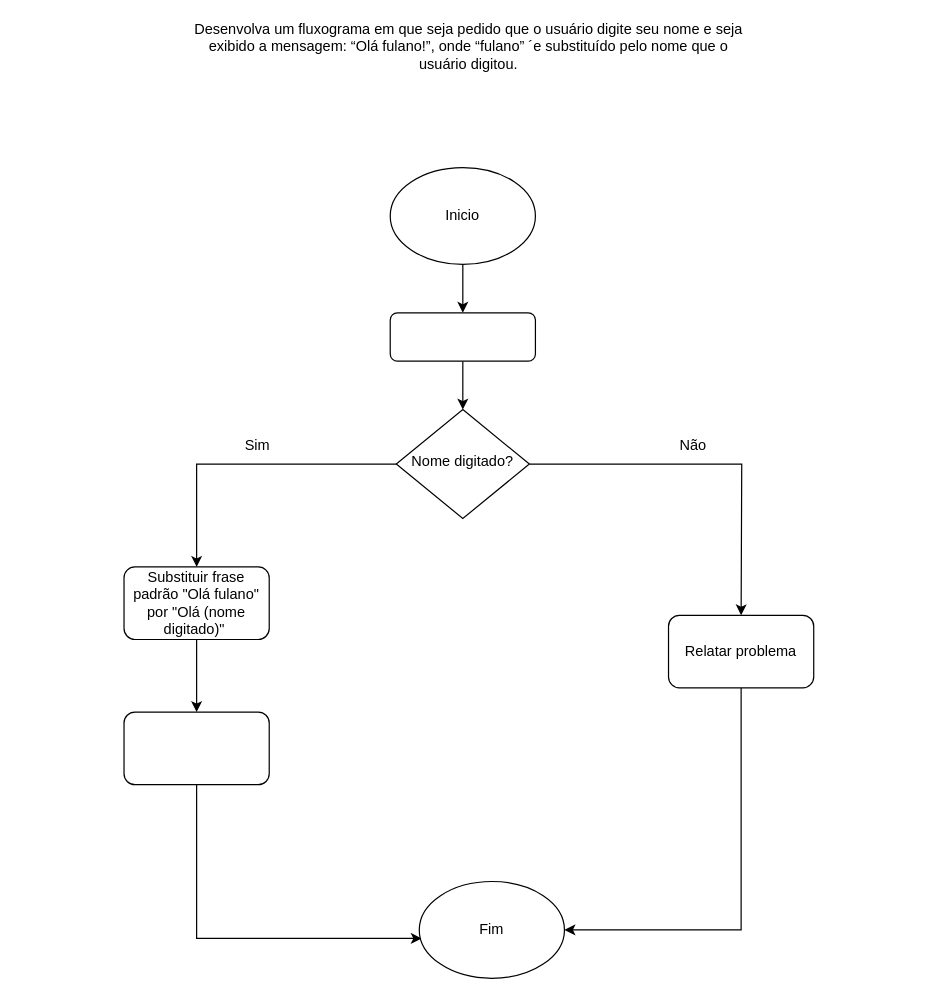
Some shapes in this 937 by 999 pixel diagram are drawn without their labels. The shapes that lost their labels are listed below. From the top down, each one's centre as x and y in pixels, then its label:
pixel 462 336: Solicitar nome
pixel 196 748: Imprimir frase padrão
